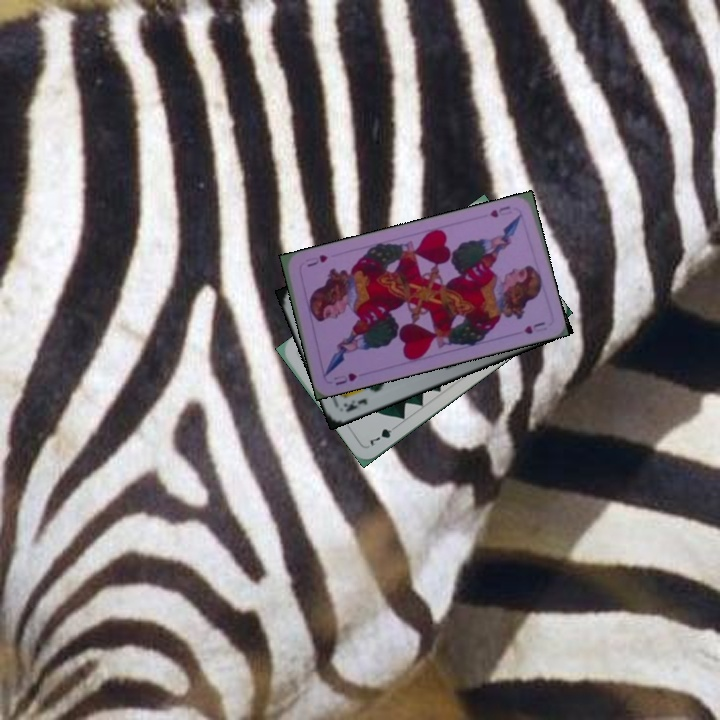EK: (339, 394, 370, 415)
G7: (366, 420, 400, 448)
HU: (330, 369, 360, 388), (486, 201, 515, 220)
